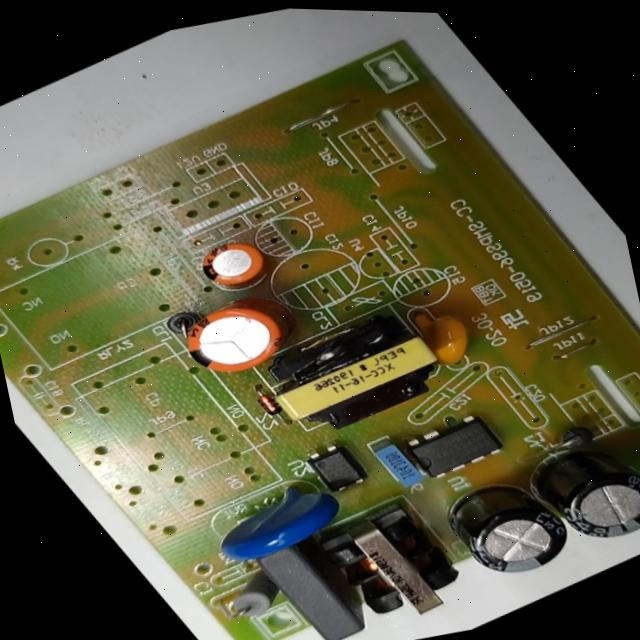Cap1: (162, 282, 300, 394)
Cap2: (187, 229, 278, 300)
Cap3: (424, 457, 592, 601)
Cap4: (514, 417, 640, 564)
MOSFET: (396, 402, 514, 490)
Mov: (194, 467, 356, 579)
Resistor: (207, 558, 293, 632)
Transformer: (242, 290, 465, 458), (306, 487, 483, 640)
